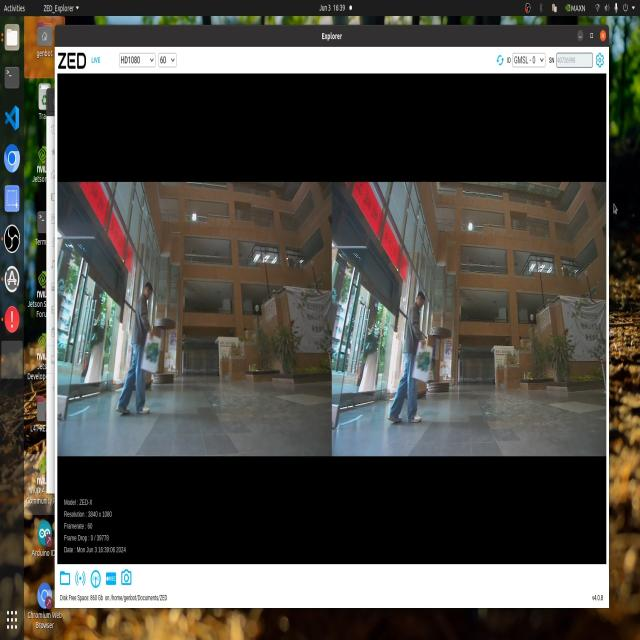green: (141, 330, 163, 374), (410, 347, 432, 375)
